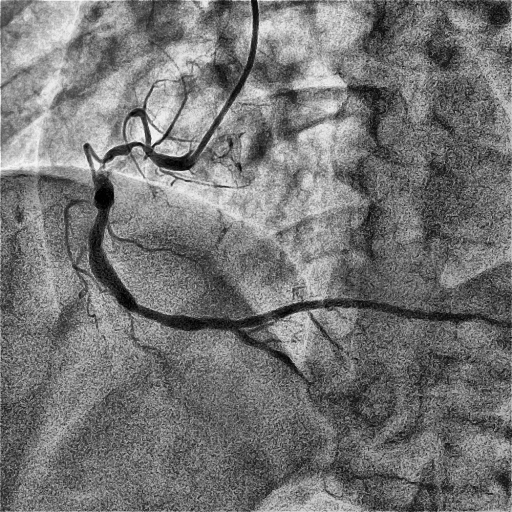pborca: (239, 299, 498, 327)
pda: (235, 329, 314, 403)
rca: (88, 142, 241, 335)
